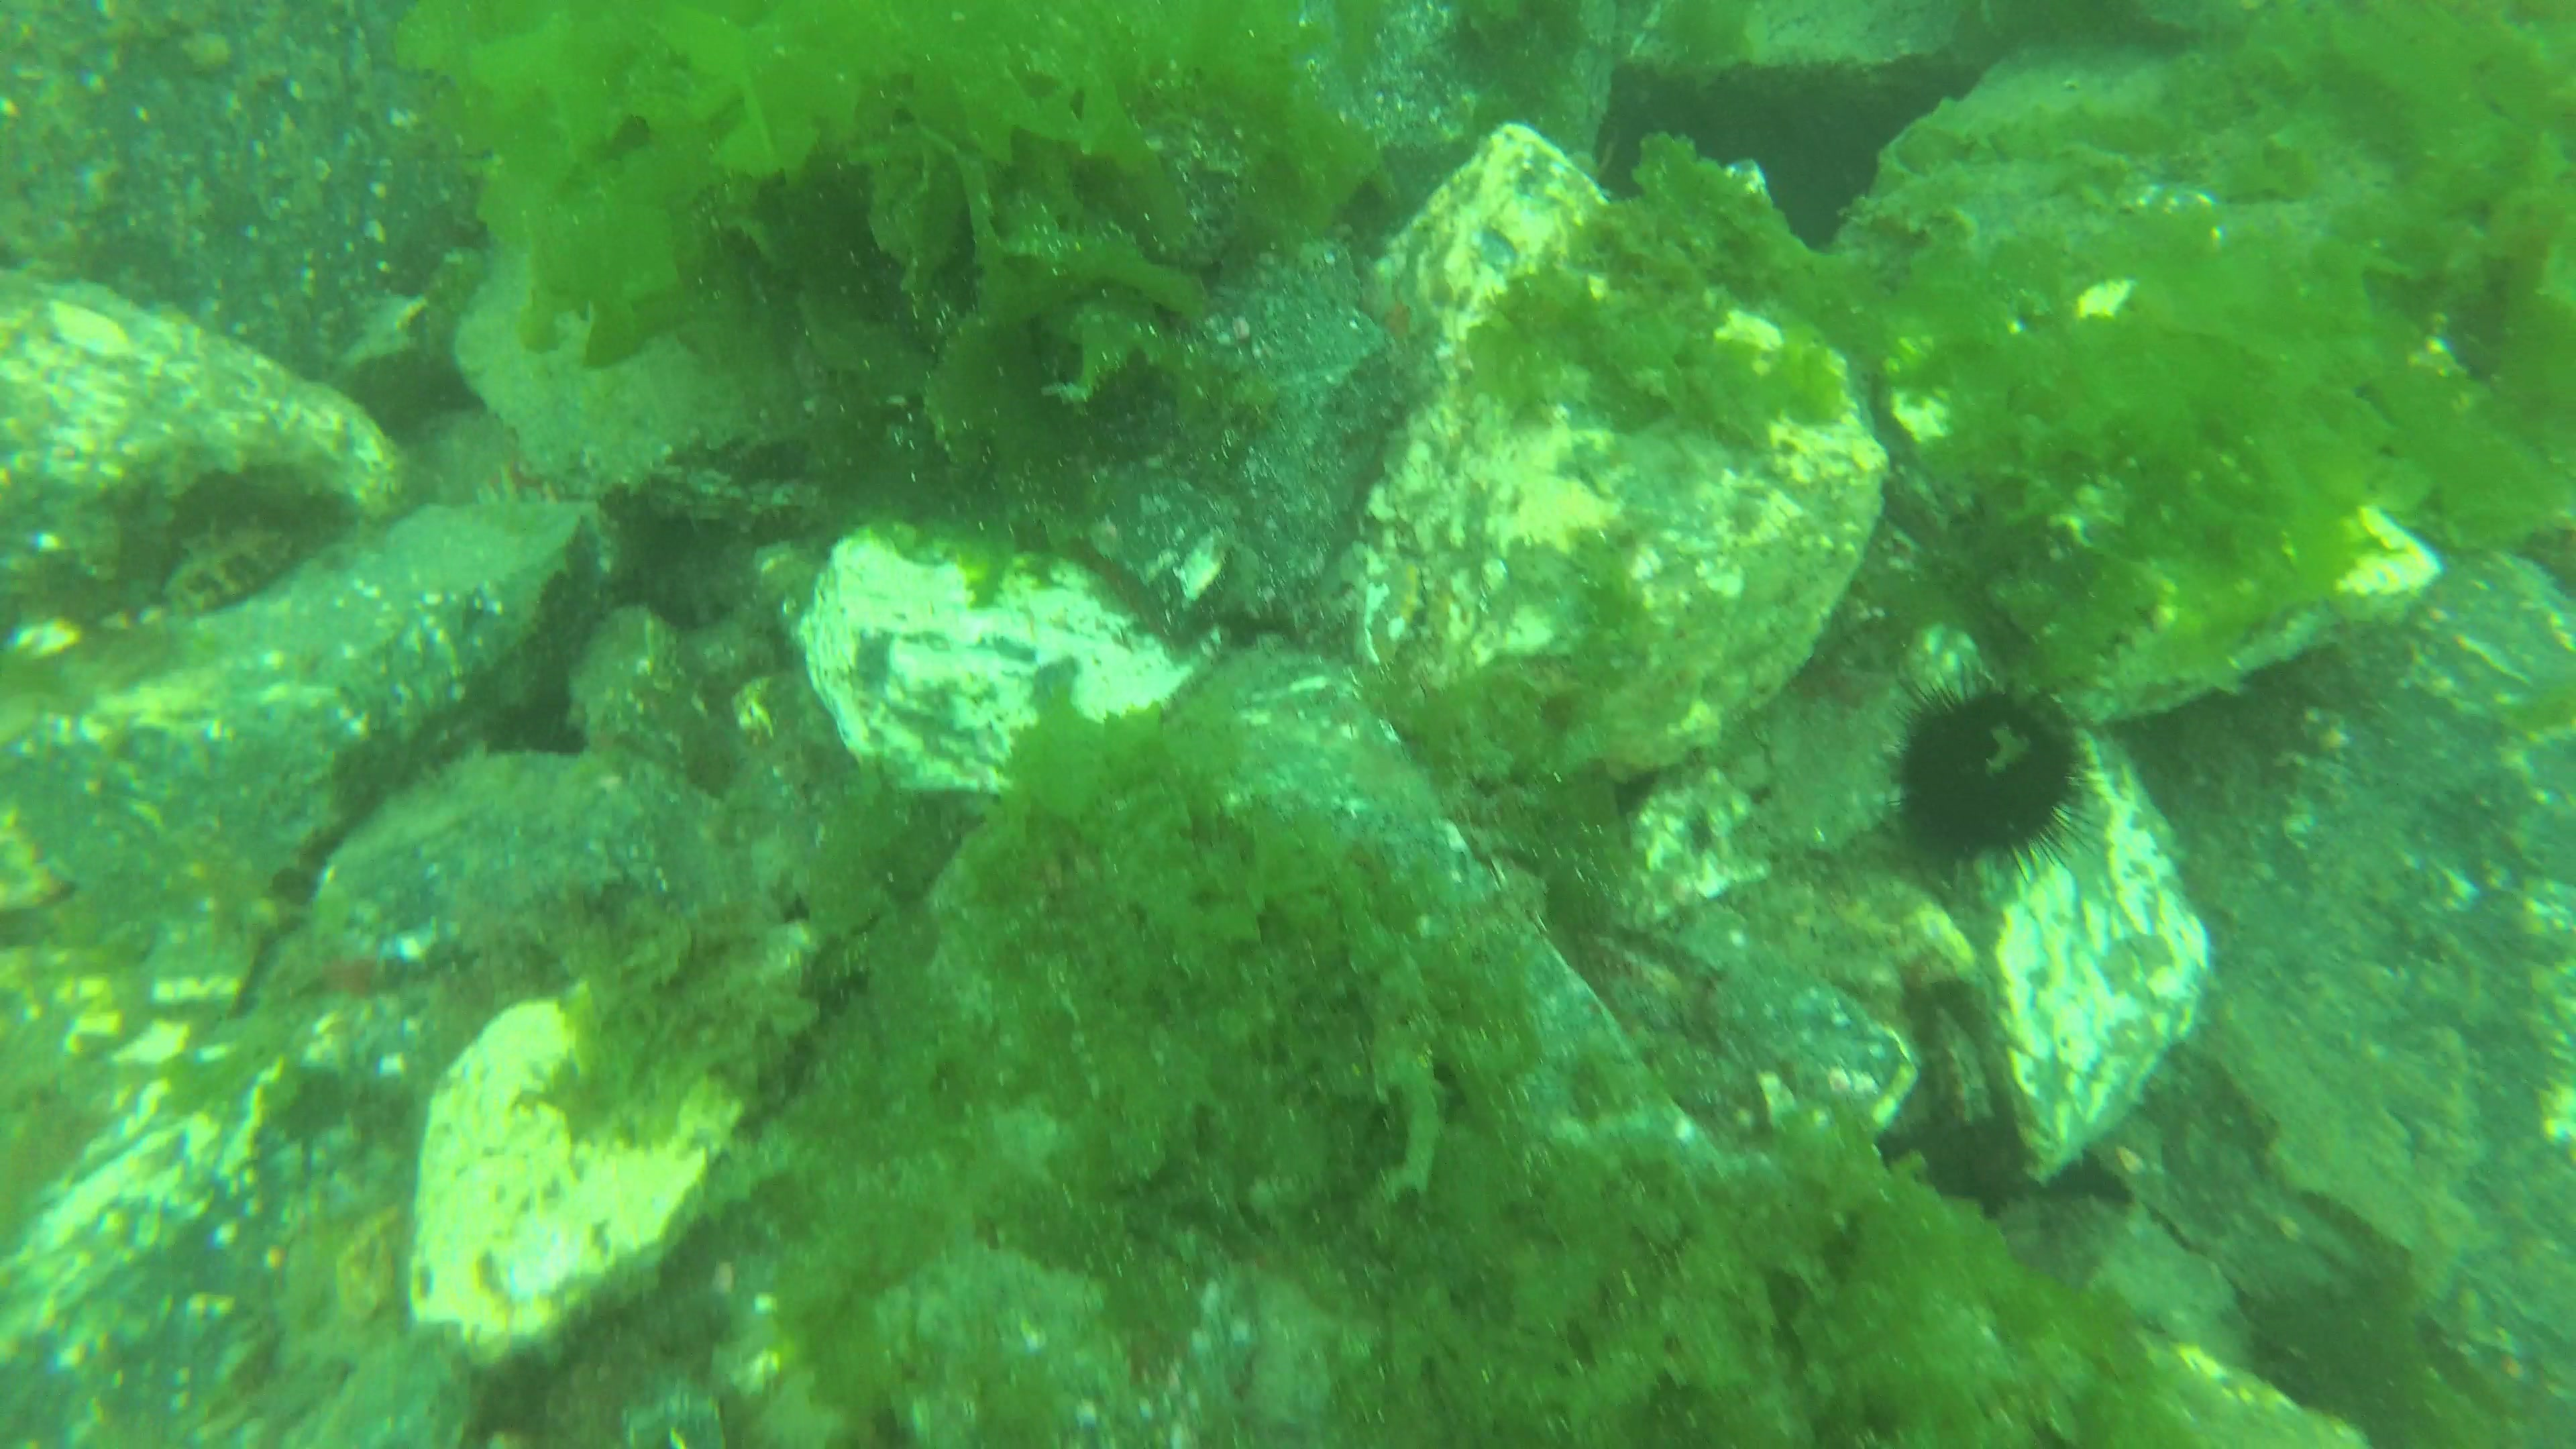echinus: (1888, 667, 2097, 878)
